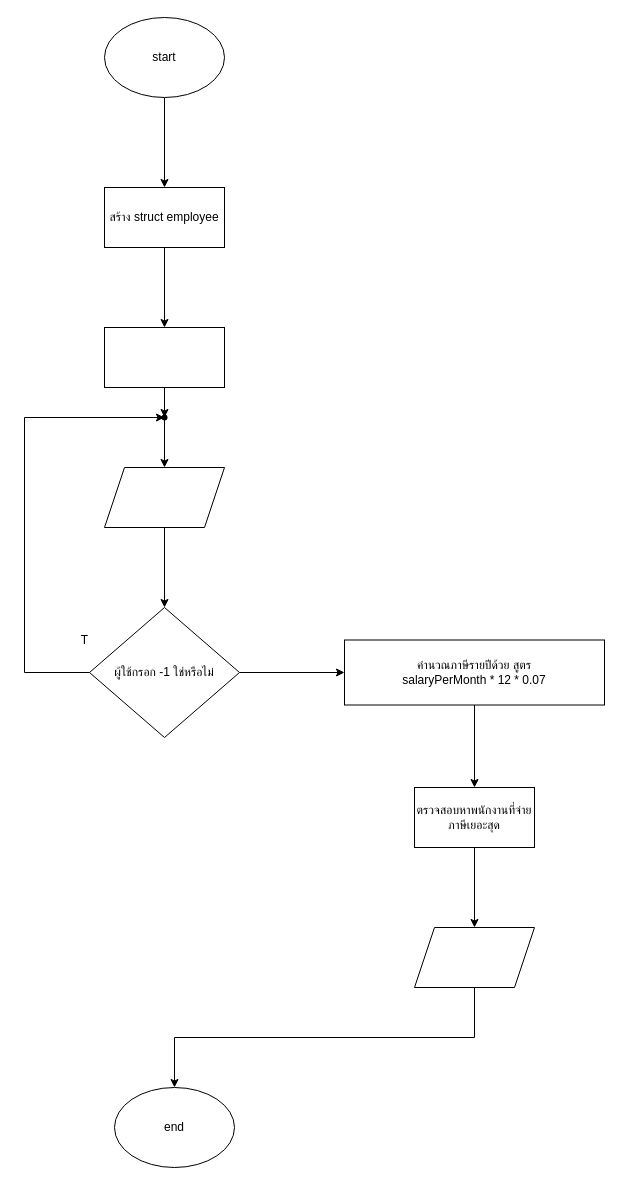
Image size: 622x1185. Some labels were removed from this diagram. The shapes that lost their labels are listed below. From the top down, each one's centre as x and y in pixels, then its label:
(164,357): สร้างฟังก์ชั่น หาคนที่จ่ายภาษีมากที่สุด
(164,497): กรอกชื่อพนักงาน กรอกเงินเดื่อน
(474,957): แสดงผลลัพธ์
